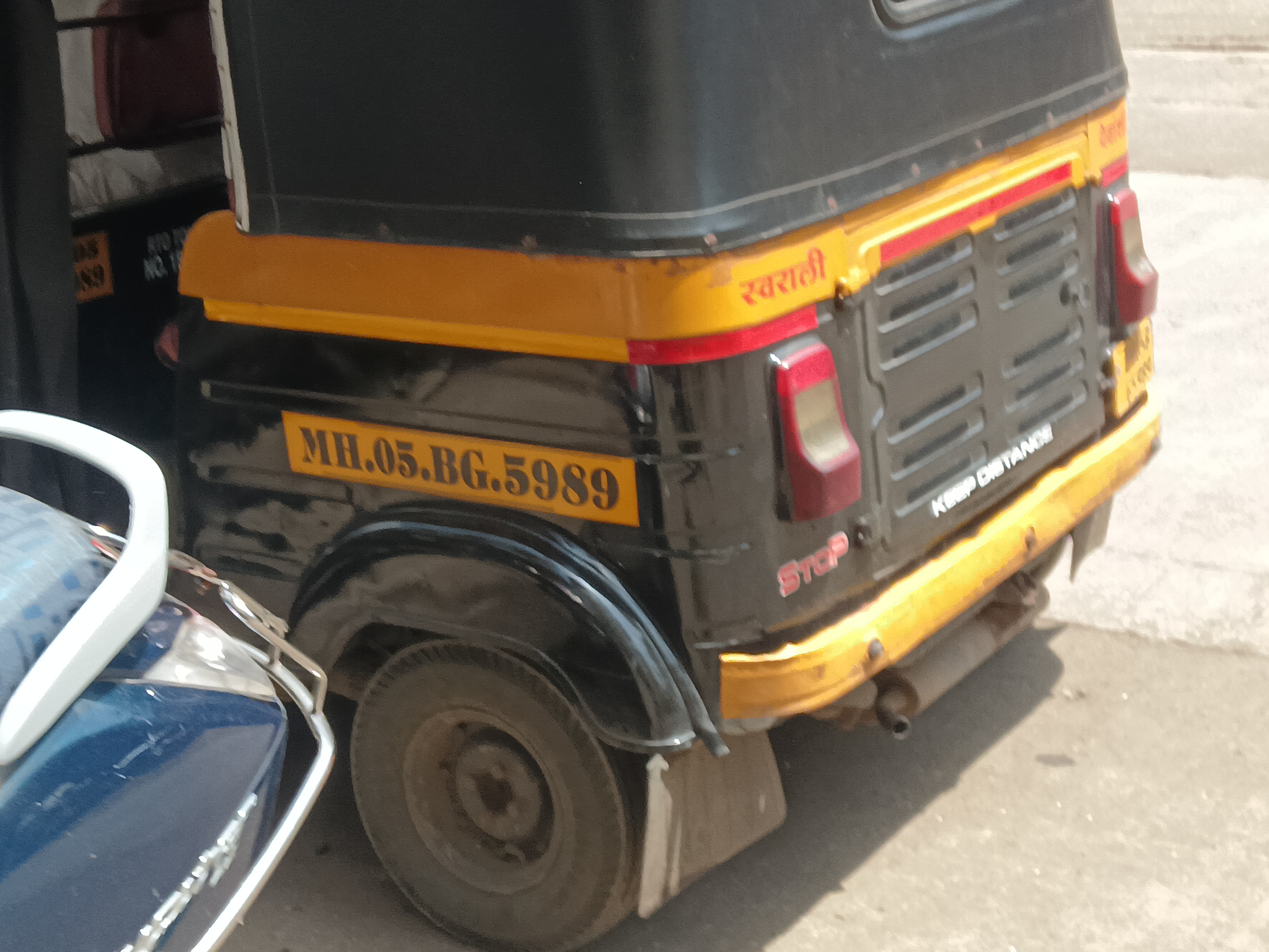vehicle: (281, 408, 640, 526)
